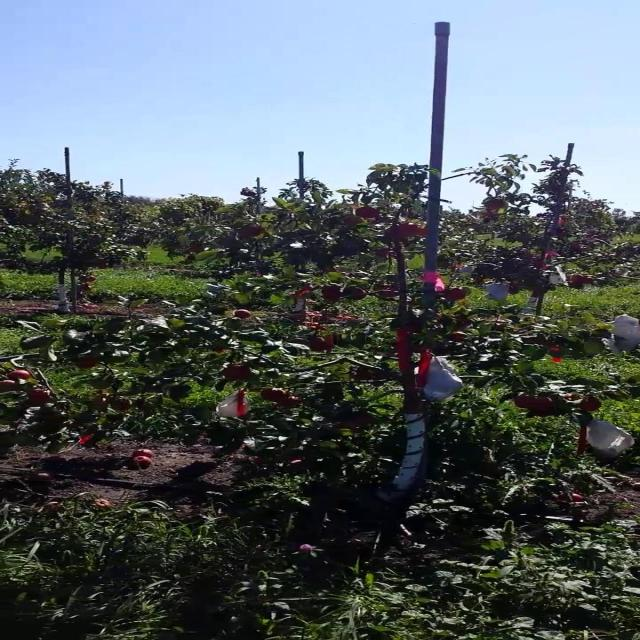apple: (92, 396, 128, 412), (99, 396, 133, 412), (227, 364, 254, 381), (92, 396, 121, 411), (312, 336, 334, 352), (383, 228, 409, 241), (28, 392, 52, 406), (106, 400, 133, 412), (532, 396, 555, 409), (355, 368, 379, 380), (276, 396, 302, 407), (397, 224, 416, 238), (447, 288, 469, 300), (582, 400, 604, 412), (397, 224, 418, 236), (6, 372, 36, 380), (362, 208, 382, 220), (262, 392, 286, 402), (348, 288, 368, 300), (113, 400, 133, 412), (454, 320, 475, 331), (532, 408, 555, 417), (518, 396, 535, 408), (355, 416, 375, 426), (77, 360, 100, 368), (6, 380, 21, 392), (326, 288, 341, 300), (426, 272, 441, 283), (234, 312, 252, 320), (454, 332, 468, 342), (348, 216, 363, 225), (248, 228, 263, 236), (419, 228, 430, 237), (440, 280, 448, 291), (511, 284, 519, 294), (568, 396, 581, 401), (554, 348, 562, 352), (554, 360, 562, 364)
